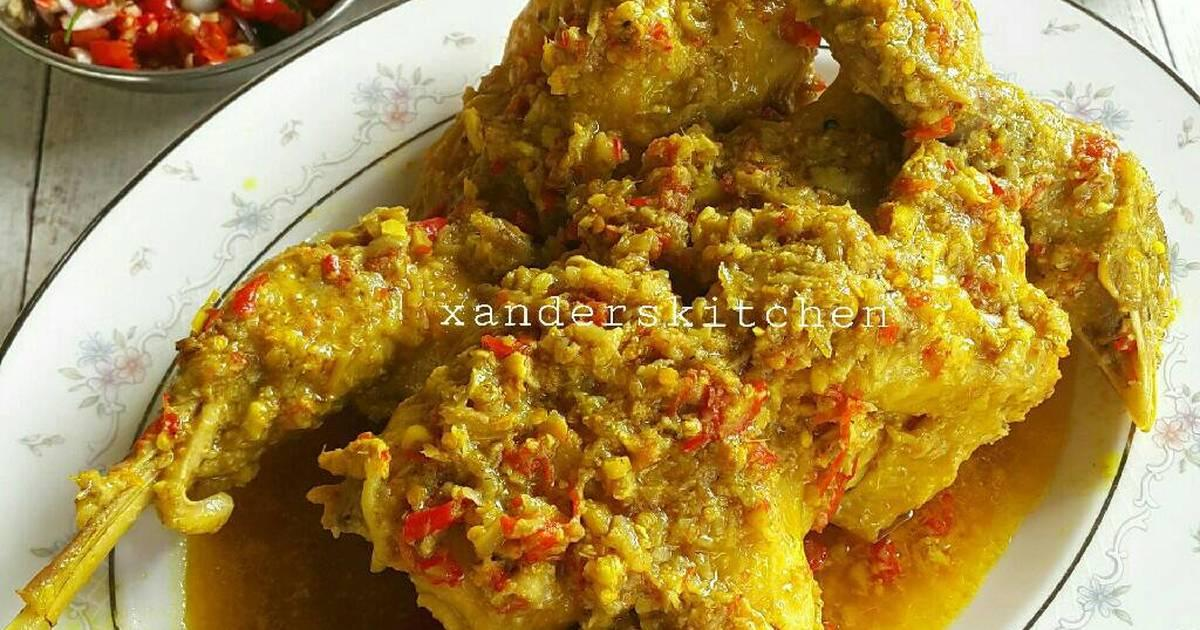ayam_betutu: (149, 2, 1168, 630)
